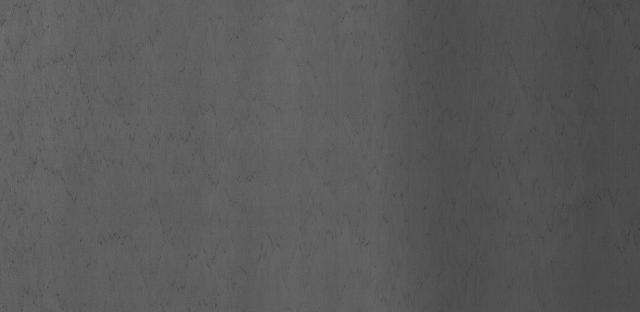silk_spot: (28, 36, 233, 246)
